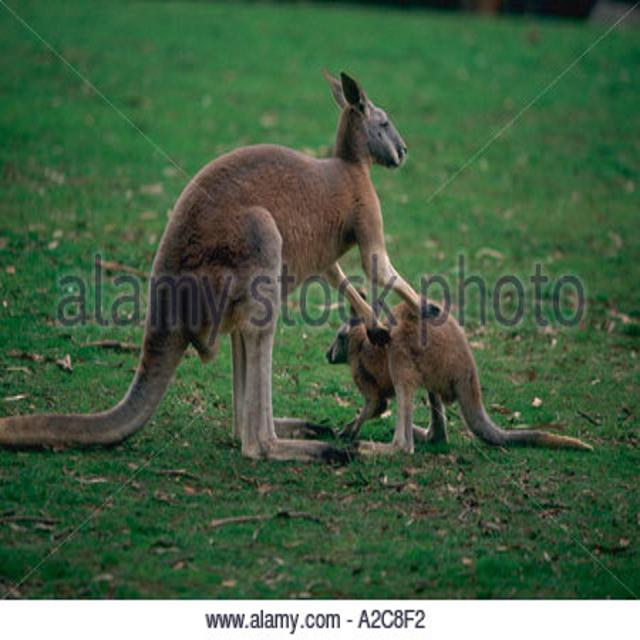kangaroo: (146, 70, 419, 314), (328, 313, 483, 458)
